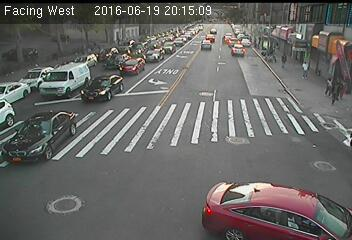neg: (11, 81, 45, 126), (204, 177, 238, 222), (301, 171, 331, 210), (158, 39, 187, 78), (53, 163, 78, 197), (260, 175, 284, 208), (247, 86, 269, 115), (88, 85, 104, 107)
pos: (299, 58, 315, 79), (318, 75, 334, 96), (277, 51, 292, 71)
